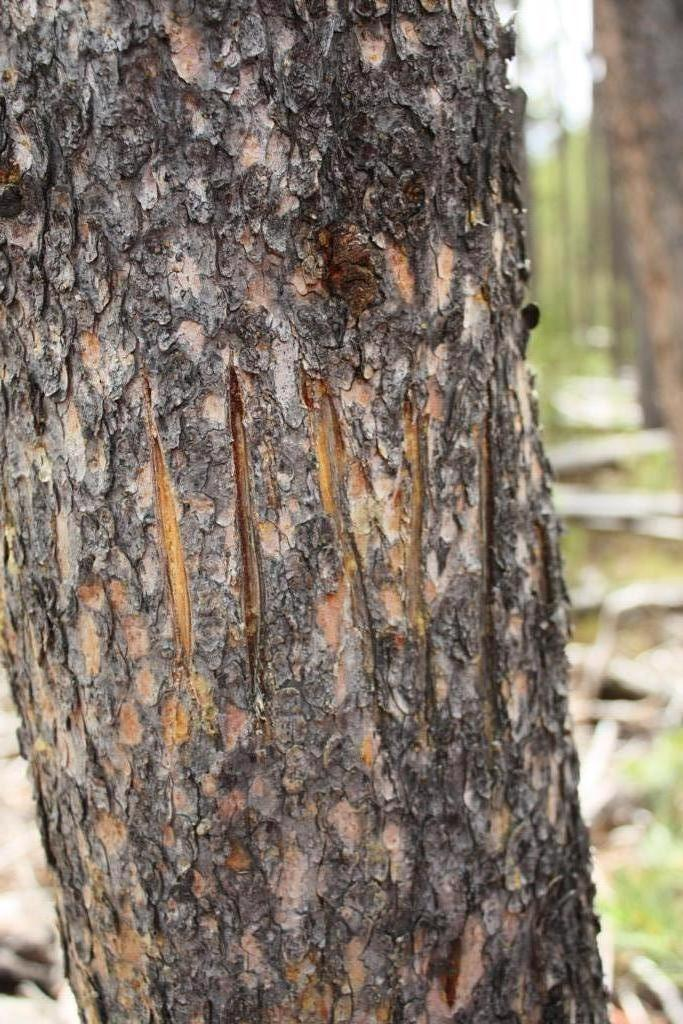Tree: (0, 0, 627, 1023), (597, 0, 683, 430)
